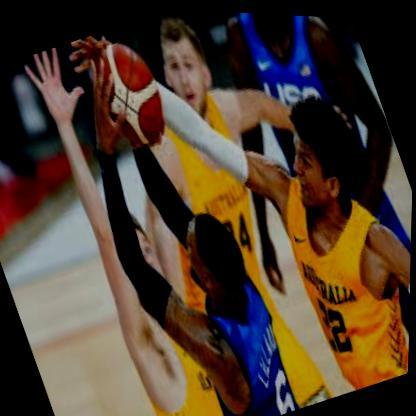basketball: (83, 31, 178, 154)
